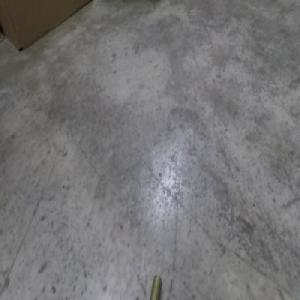Bolt: (148, 274, 161, 299)
